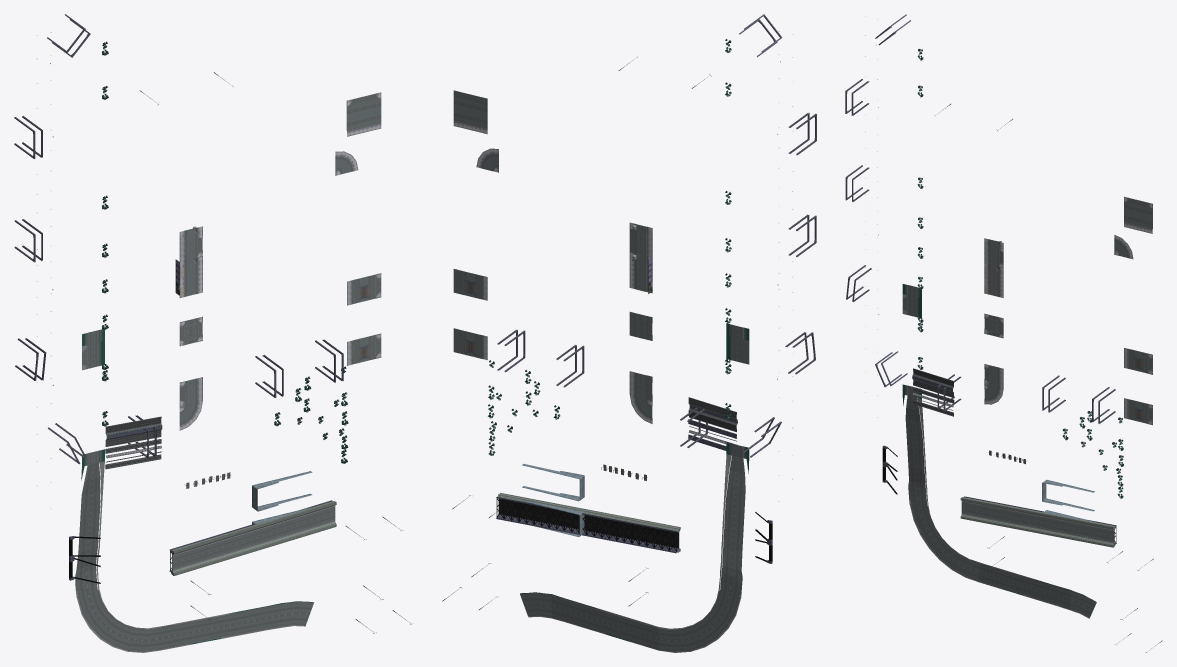
The model's file is industsw_industsw__part_07.obj.
3 views of the same model, side by side, from view 1: azimuth 30°, elevation 25°; view 2: azimuth 150°, elevation 25°; view 3: azimuth 330°, elevation 25° (orthographic). The views are drawn at different scales.
Visible parts, largest first — view 1: industsw_industsw__part_07; view 2: industsw_industsw__part_07; view 3: industsw_industsw__part_07.
Part boxes in pixels (bbox=[...]): industsw_industsw__part_07: bbox=[14, 14, 411, 652]; industsw_industsw__part_07: bbox=[442, 14, 816, 652]; industsw_industsw__part_07: bbox=[845, 14, 1162, 652].
Bounding box in the file's own units: 322 × 553 × 44.19.
96 materials, 96 textured.
